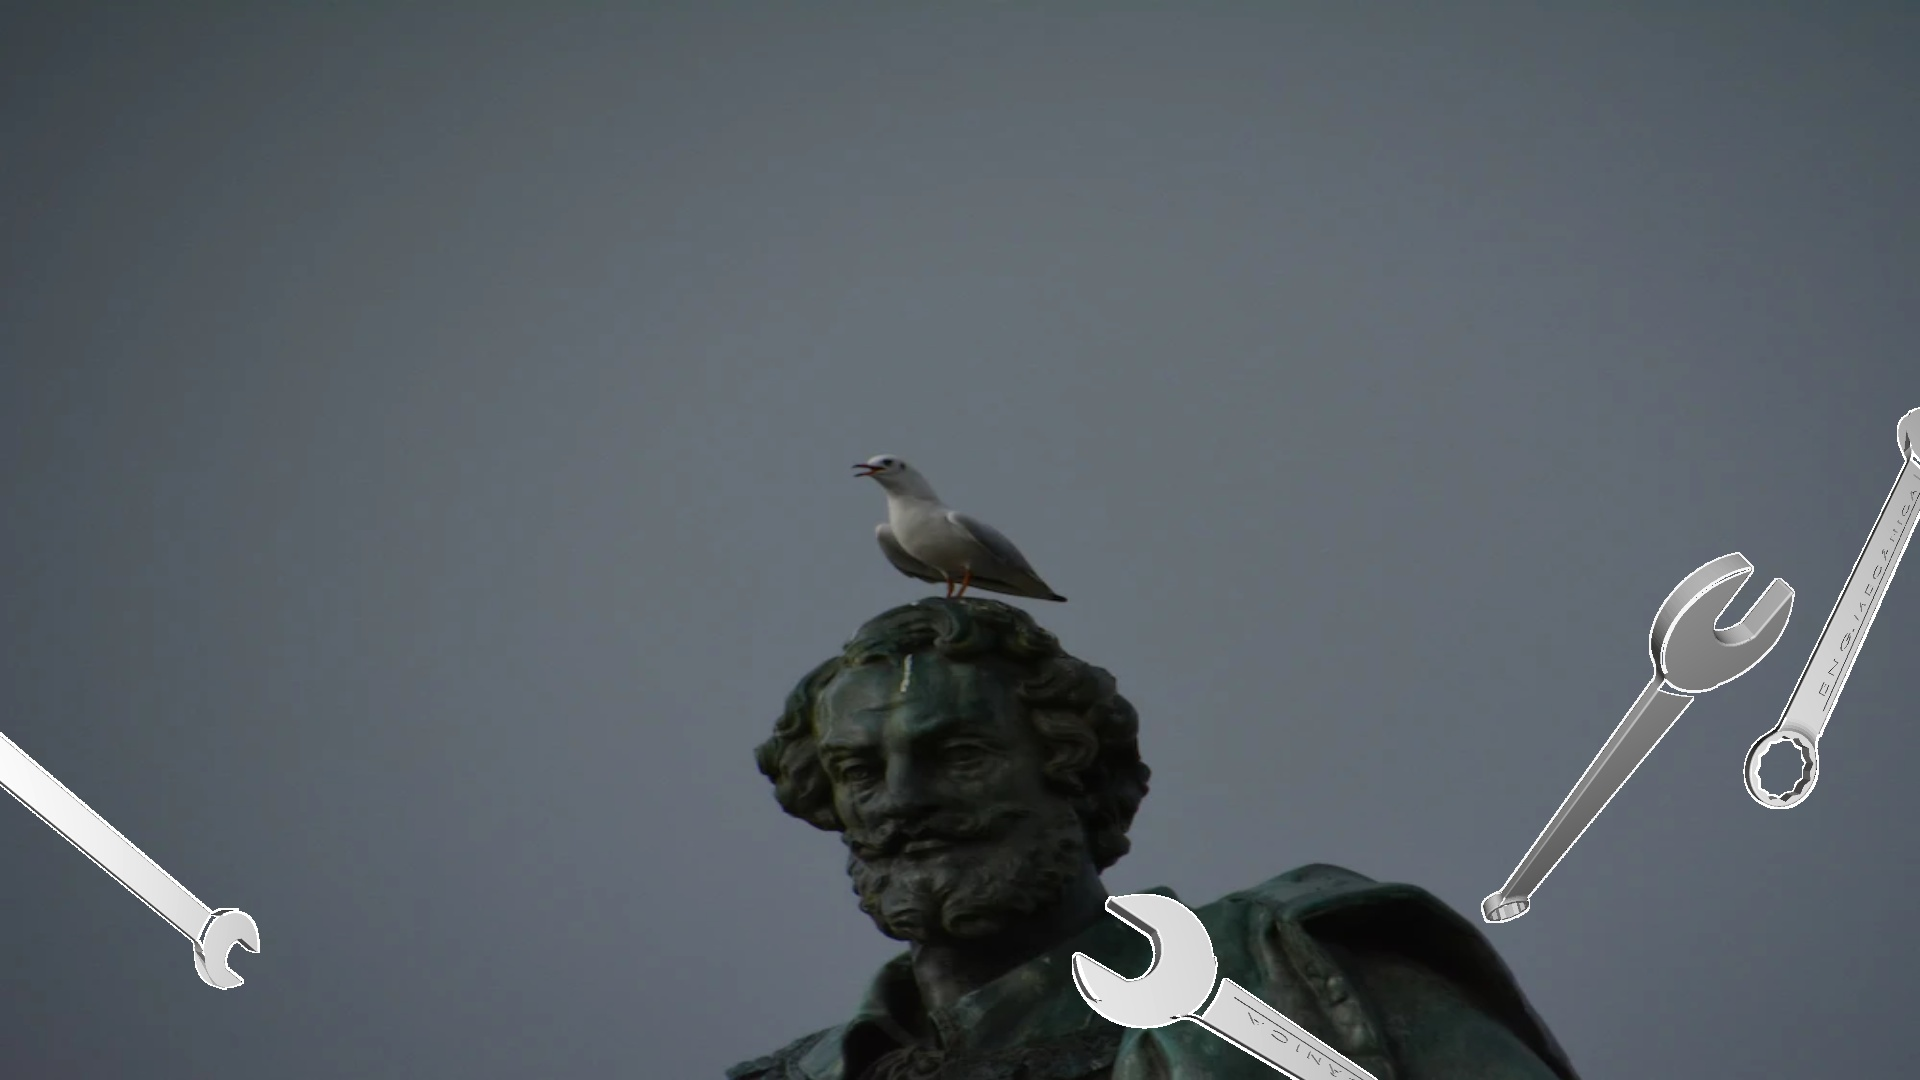Mixed Key: (1481, 553, 1793, 922), (1743, 407, 1919, 808), (0, 732, 258, 989), (1072, 894, 1377, 1079)
